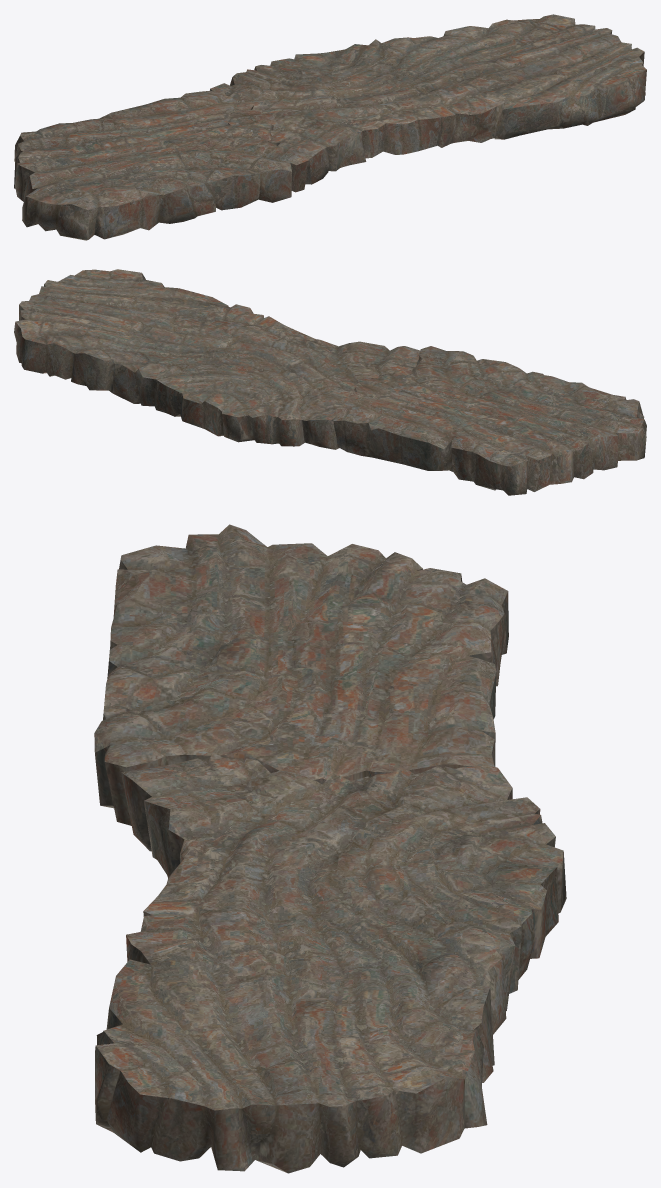
The model's file is bg_rad_kamen_rockfloor03a_sm.obj.
3 views of the same model, one above another, from view 1: azimuth 30°, elevation 25°; view 2: azimuth 150°, elevation 25°; view 3: azimuth 270°, elevation 25° (orthographic). The views are drawn at different scales.
Visible parts, largest first — view 1: bg_rad_kamen_rockfloor03a_sm_1, bg_rad_kamen_rockfloor03a_sm_0; view 2: bg_rad_kamen_rockfloor03a_sm_1, bg_rad_kamen_rockfloor03a_sm_0; view 3: bg_rad_kamen_rockfloor03a_sm_1, bg_rad_kamen_rockfloor03a_sm_0.
Part boxes in pixels (bbox=[...]): bg_rad_kamen_rockfloor03a_sm_1: bbox=[210, 14, 646, 184]; bg_rad_kamen_rockfloor03a_sm_0: bbox=[14, 90, 309, 240]; bg_rad_kamen_rockfloor03a_sm_1: bbox=[14, 269, 419, 449]; bg_rad_kamen_rockfloor03a_sm_0: bbox=[333, 346, 646, 495]; bg_rad_kamen_rockfloor03a_sm_1: bbox=[95, 736, 566, 1173]; bg_rad_kamen_rockfloor03a_sm_0: bbox=[94, 524, 508, 825].
Size of the model in its own units: 8.7 by 0.5651 by 2.96.
Materials: 2 (2 with a texture image).
